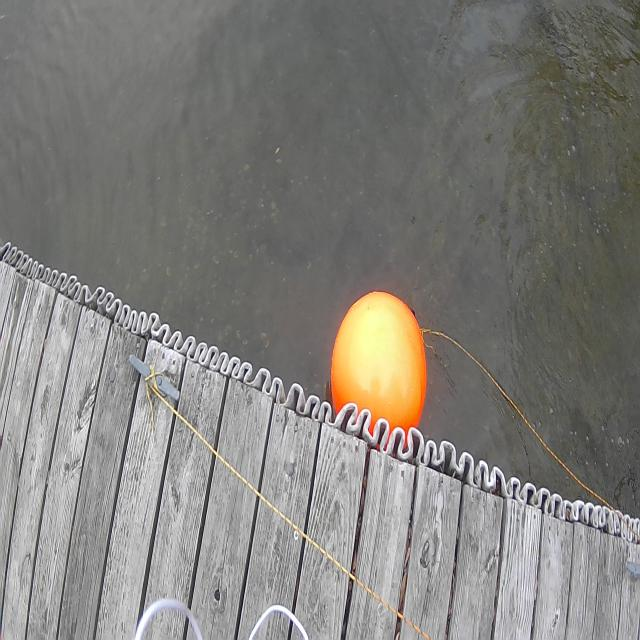Buoy: (330, 288, 427, 453)
